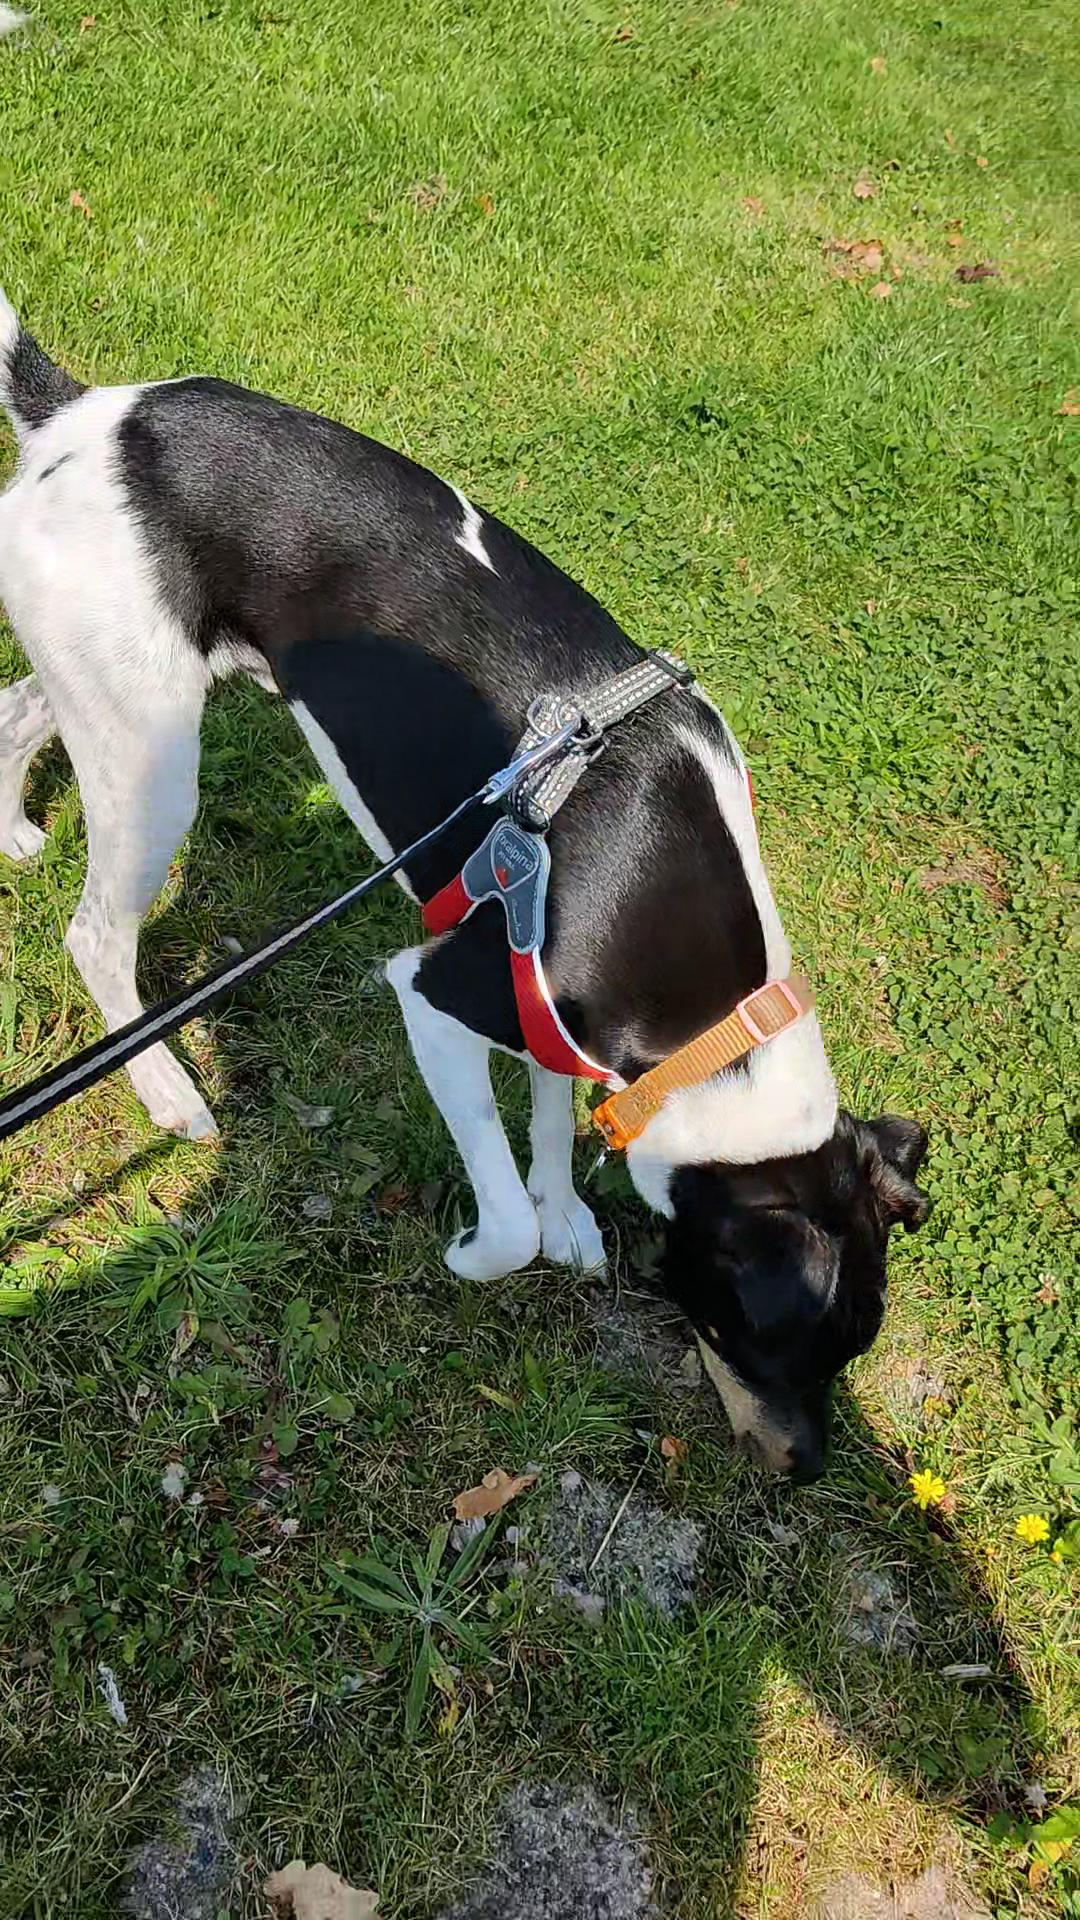Dog: (0, 0, 967, 1494)
